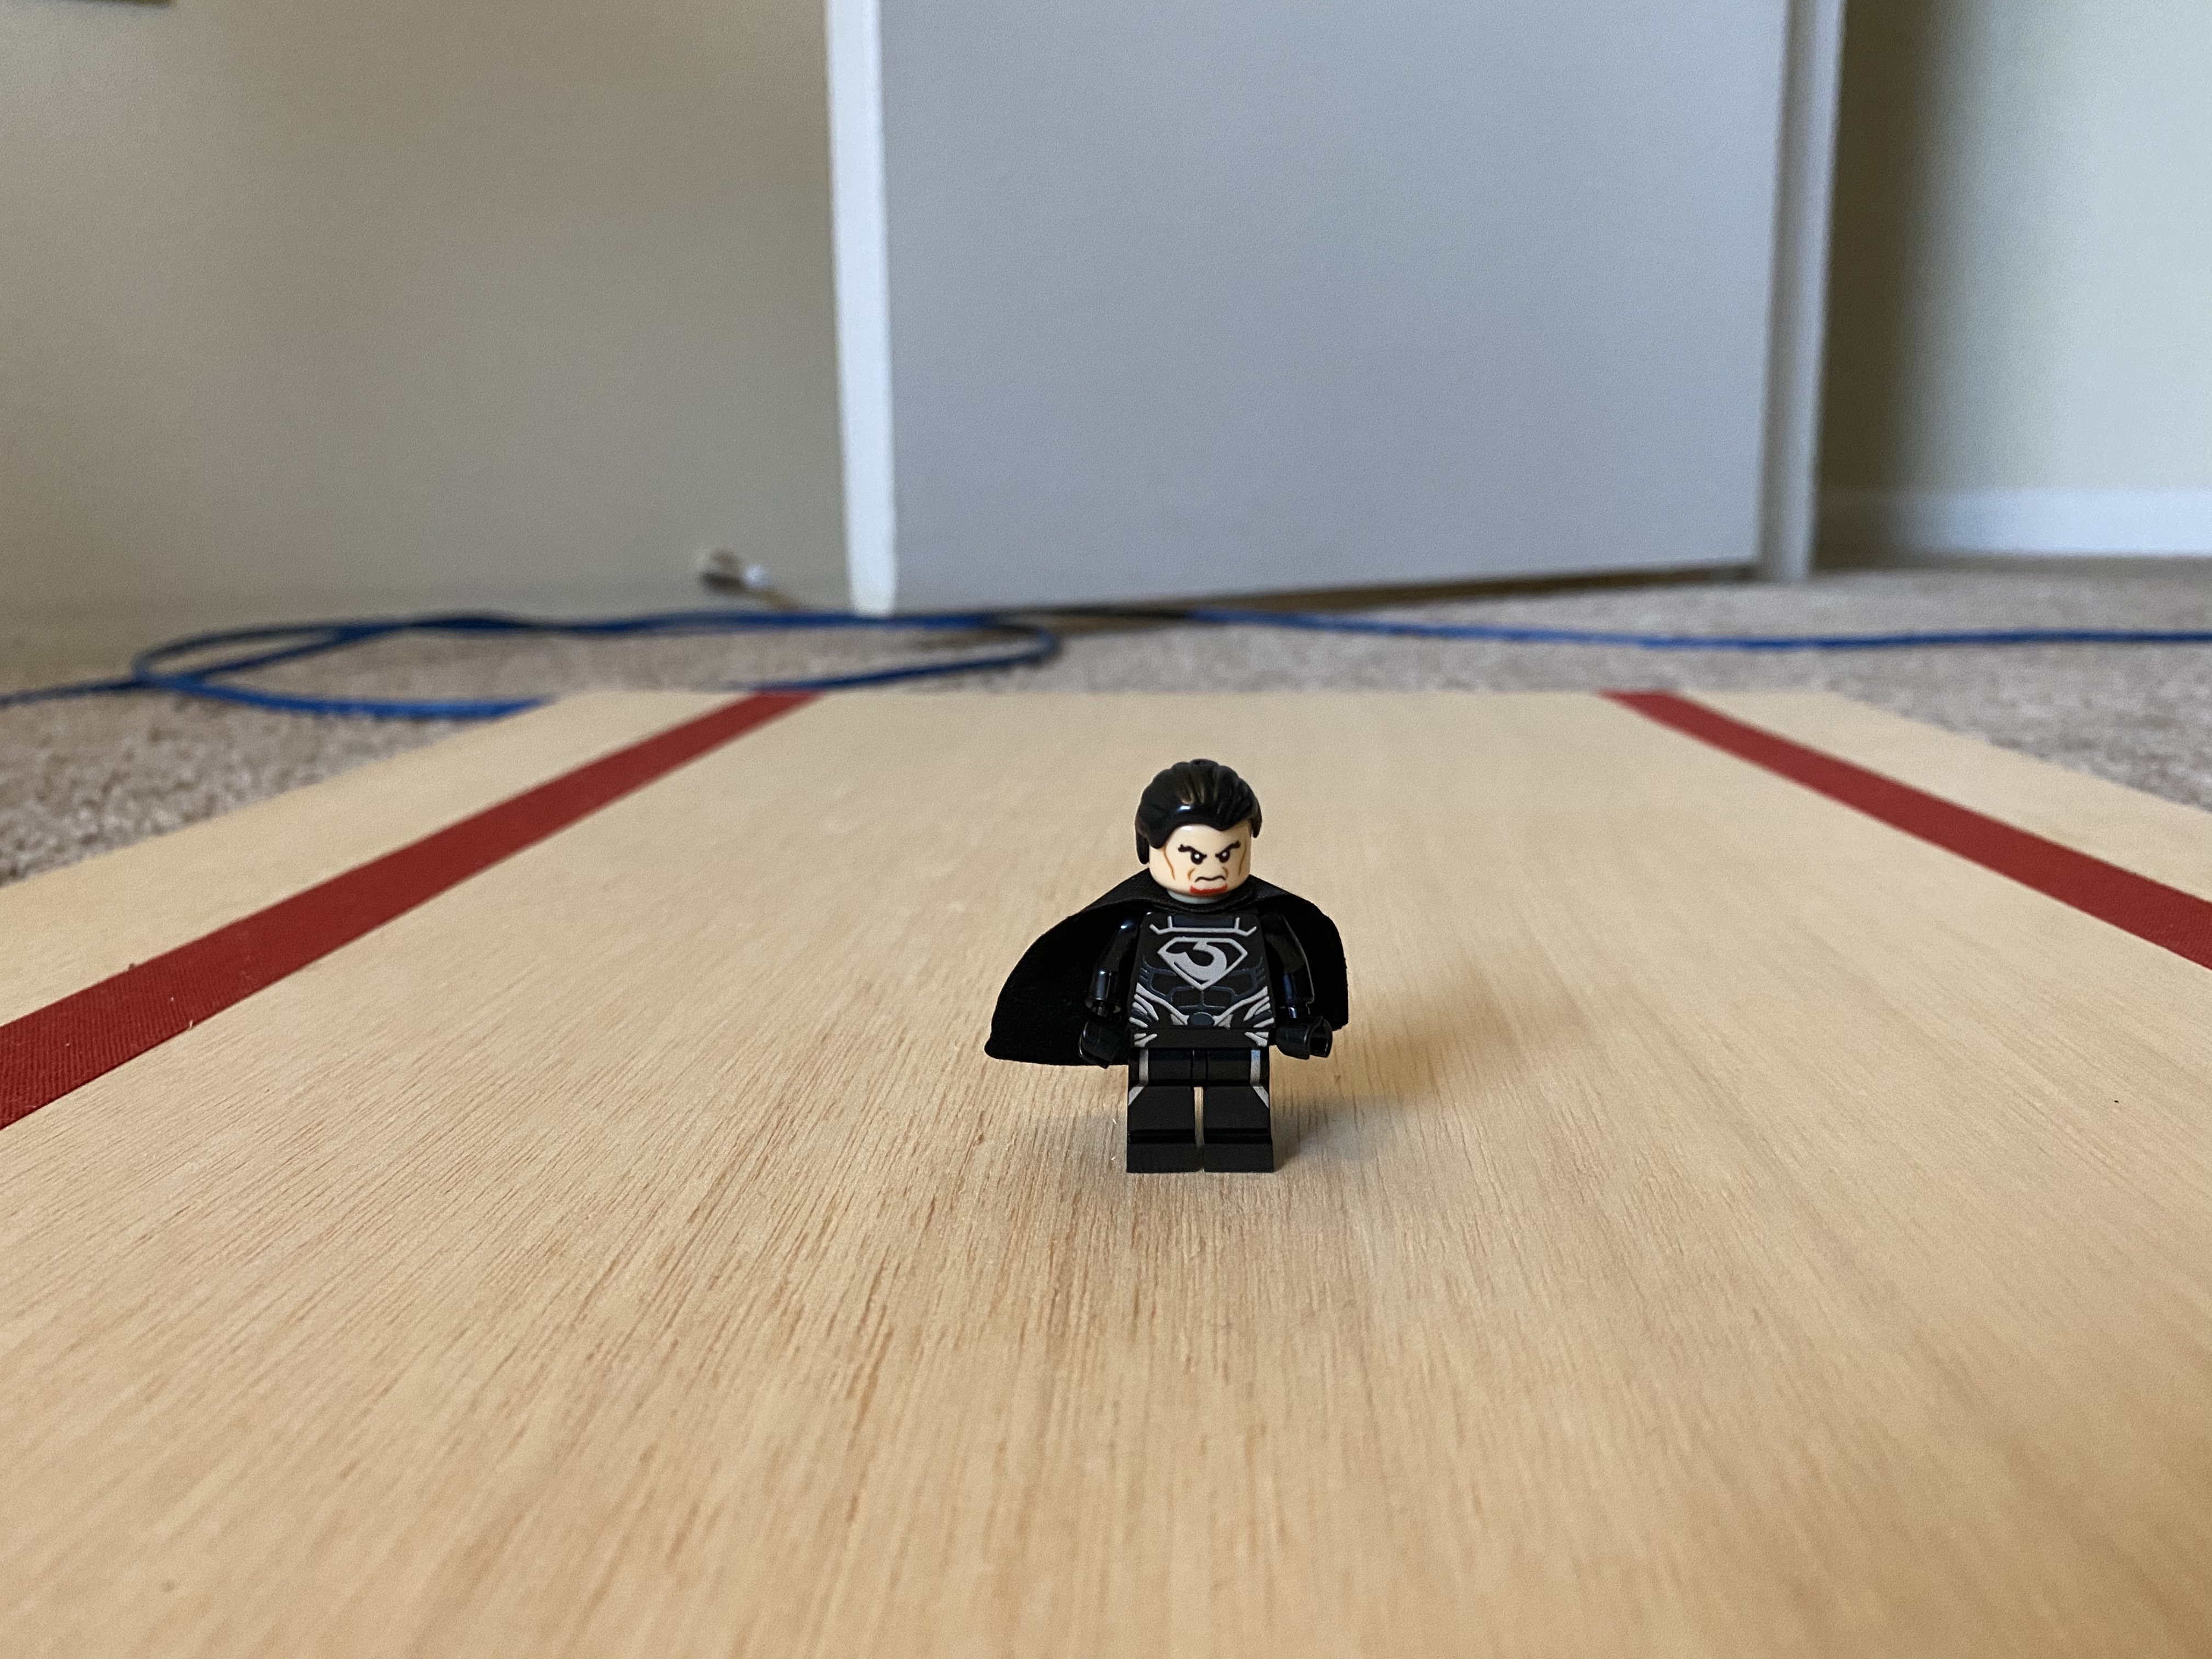Person: (964, 752, 1403, 1186)
